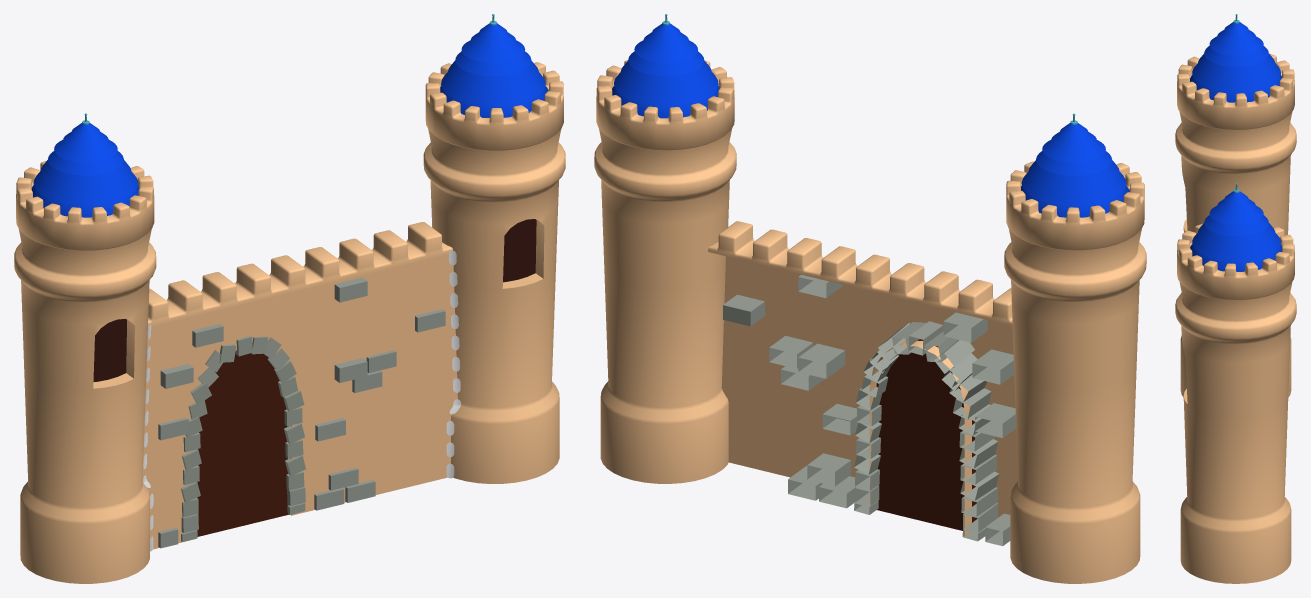
Rendered from Castle_1 (3).fbx.
3 views of the same model, side by side, from view 1: azimuth 30°, elevation 25°; view 2: azimuth 150°, elevation 25°; view 3: azimuth 270°, elevation 25° (orthographic). The views are drawn at different scales.
Parts seen in each view (by area): view 1: Wall, Colon_L, Colon_R, Door, C1_Line_R; view 2: Wall, Colon_L, Colon_R, Door; view 3: Colon_R, Colon_L.
Part boxes in pixels (bbox=[...]): Wall: bbox=[142, 222, 457, 549]; Colon_L: bbox=[14, 113, 156, 583]; Colon_R: bbox=[423, 14, 565, 483]; Door: bbox=[197, 352, 288, 536]; C1_Line_R: bbox=[446, 251, 461, 478]; Wall: bbox=[708, 221, 1017, 546]; Colon_L: bbox=[1004, 113, 1146, 583]; Colon_R: bbox=[594, 14, 736, 483]; Door: bbox=[876, 339, 977, 530]; Colon_R: bbox=[1175, 183, 1296, 583]; Colon_L: bbox=[1175, 14, 1296, 397].
Bounding box in the file's own units: 129 × 29.8 × 102.
